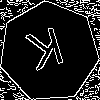K: (24, 26, 69, 80)
